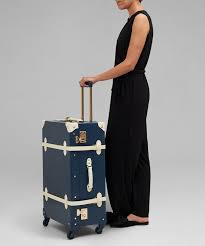suitcase: (40, 78, 109, 239)
